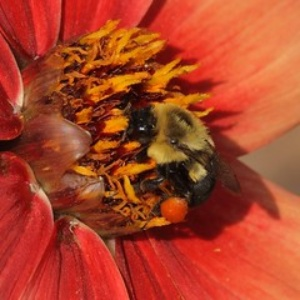bee: (126, 101, 244, 209)
